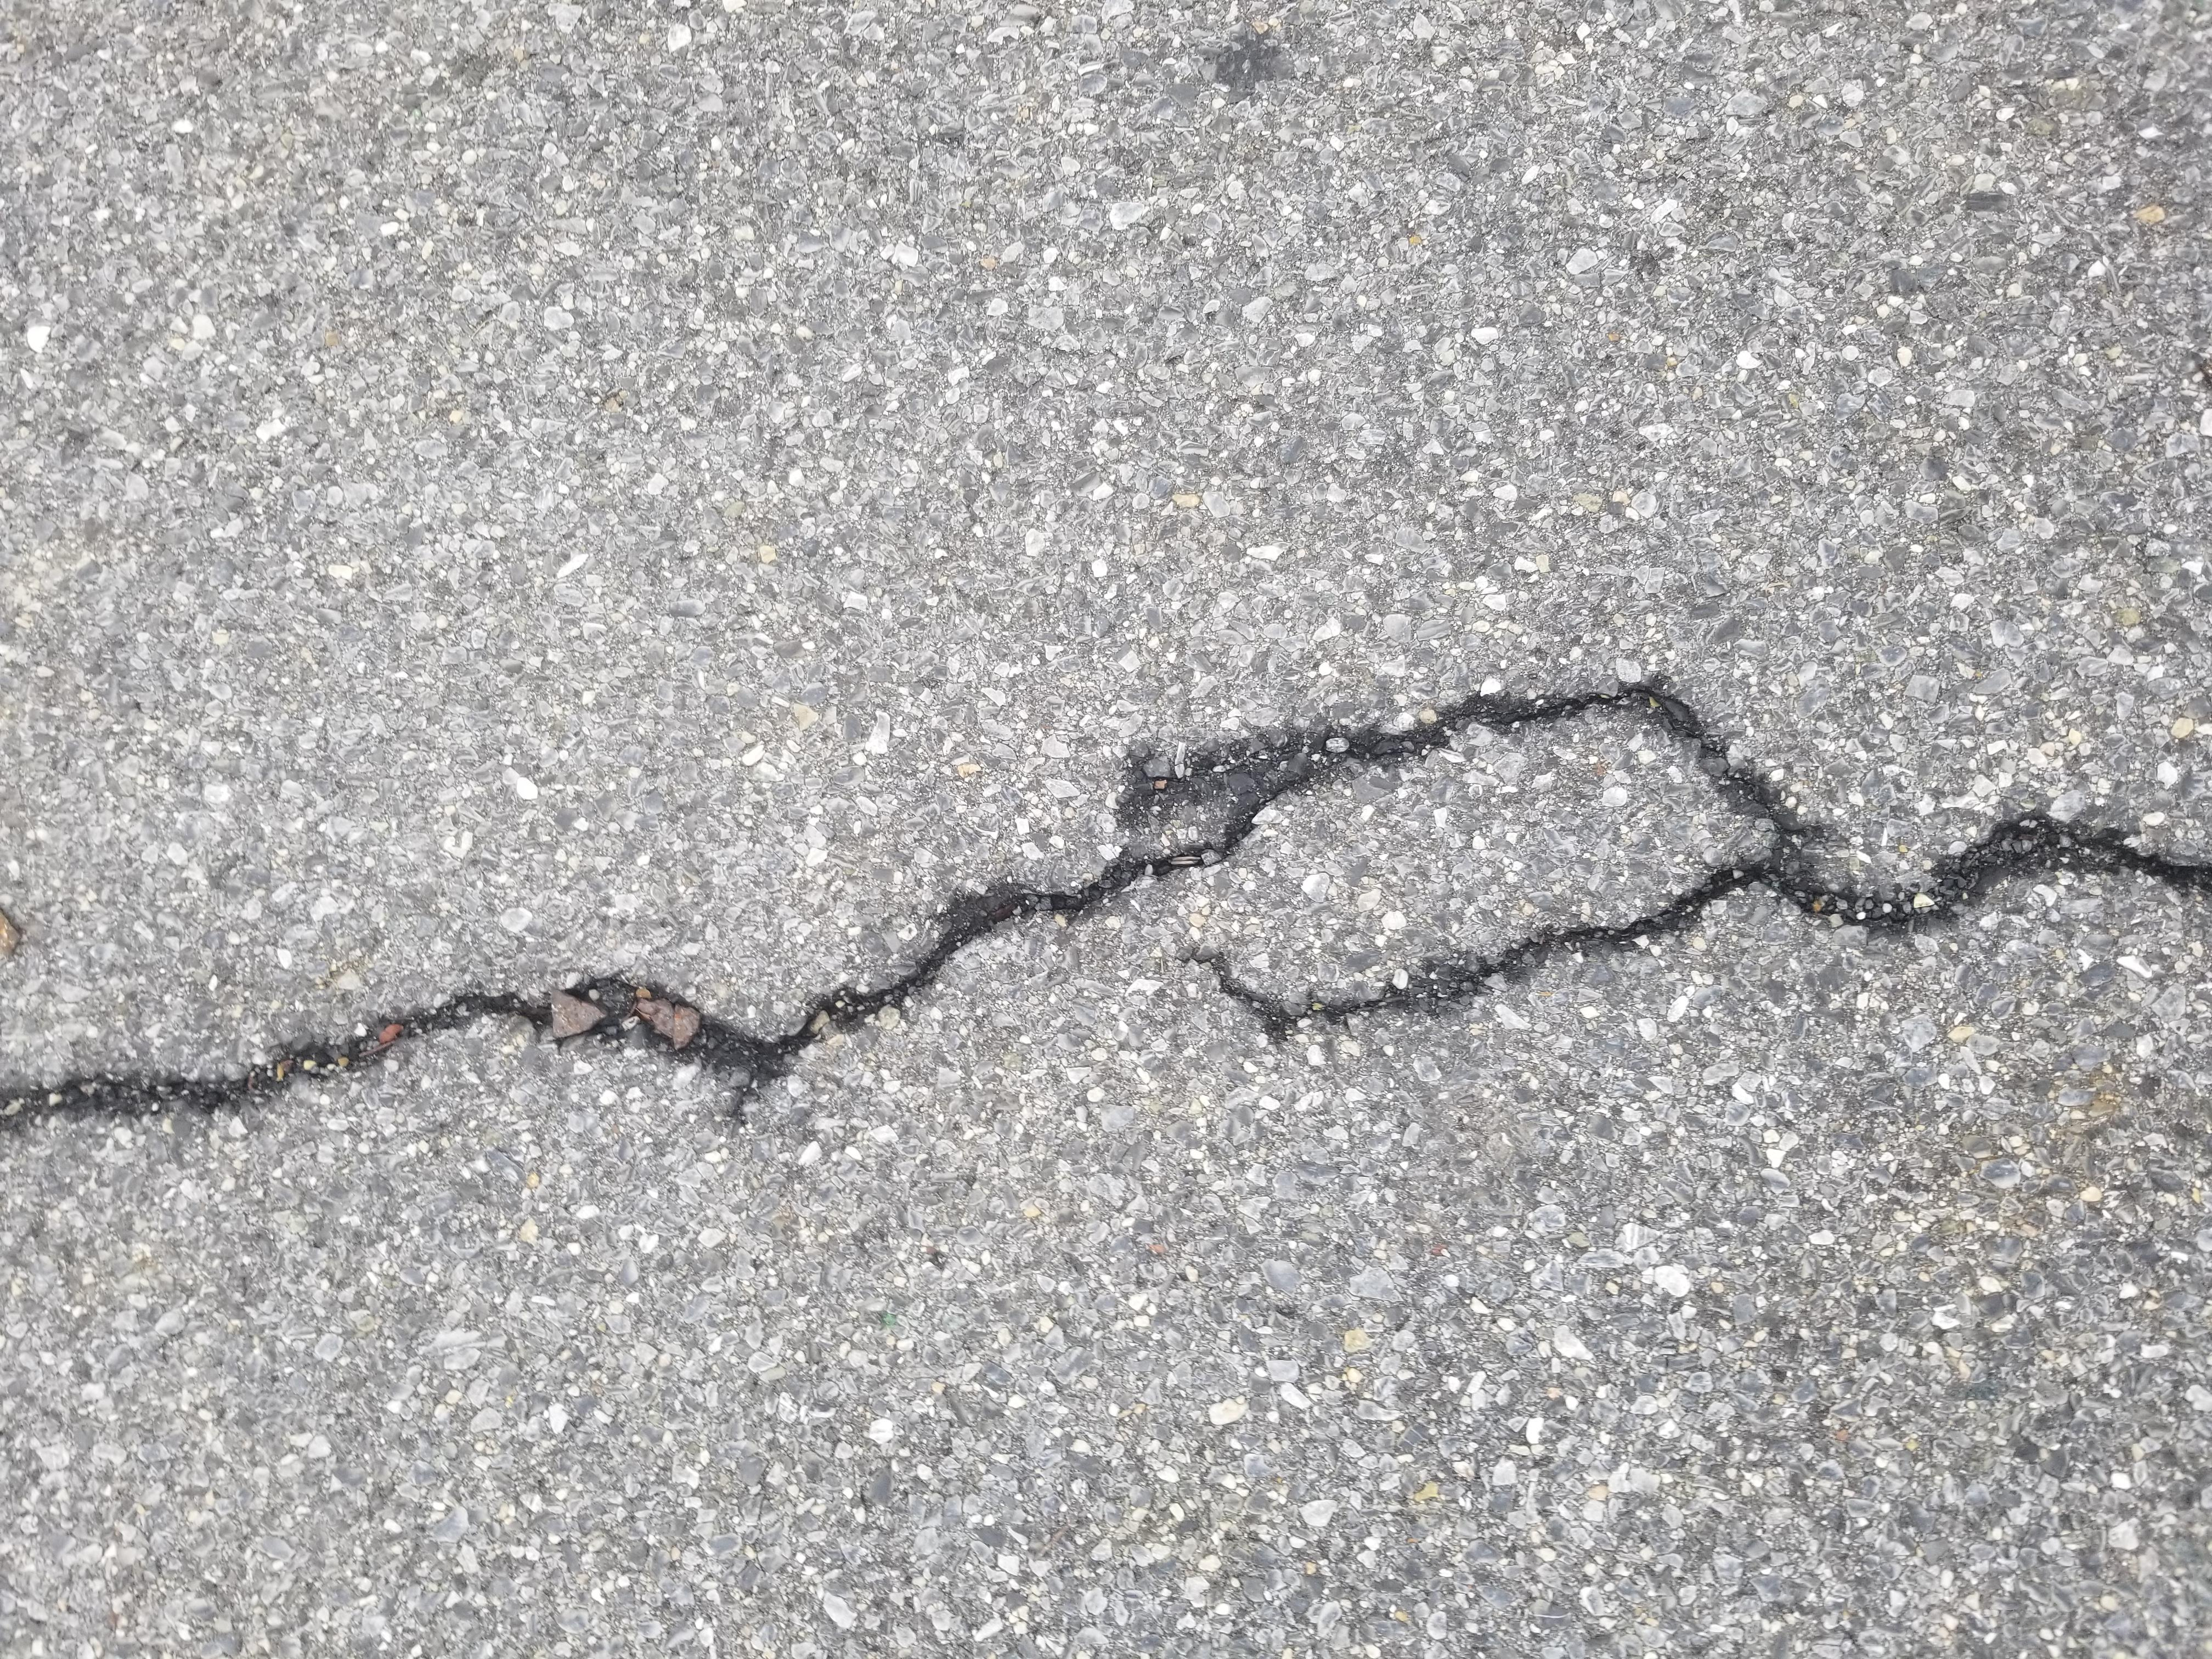alligator-crack: (636, 0, 1386, 1654)
